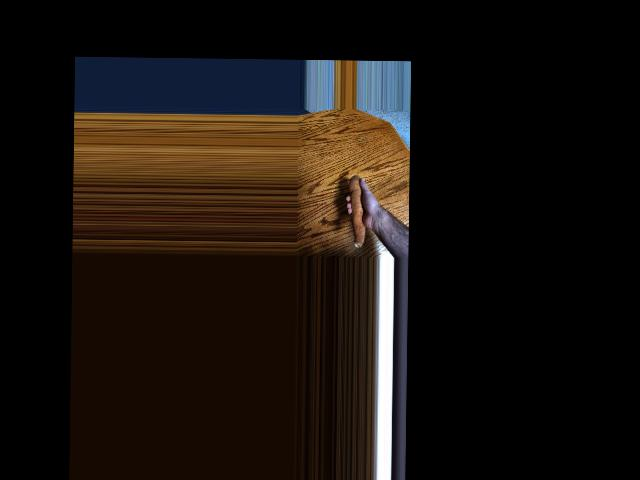sweet_potato: (346, 174, 372, 249)
